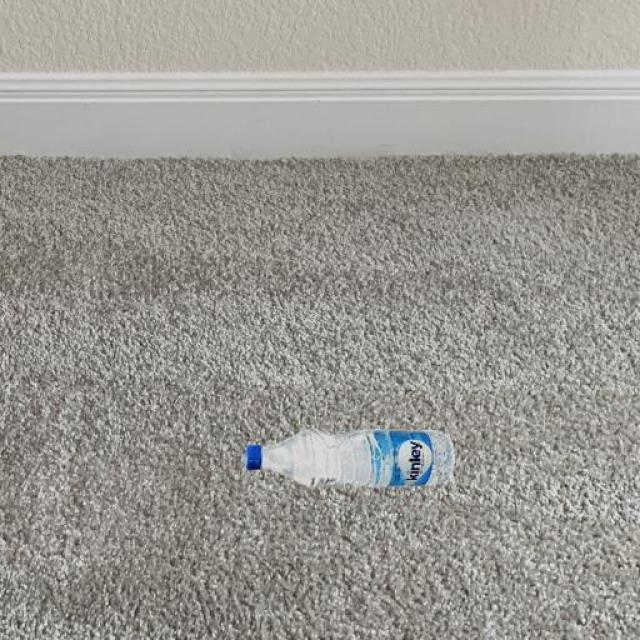bottle: (244, 426, 455, 492)
